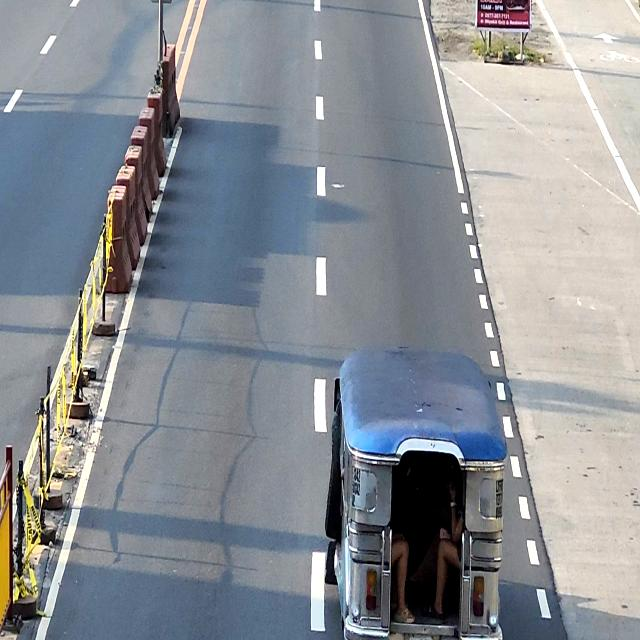Jeep: (325, 344, 508, 640)
